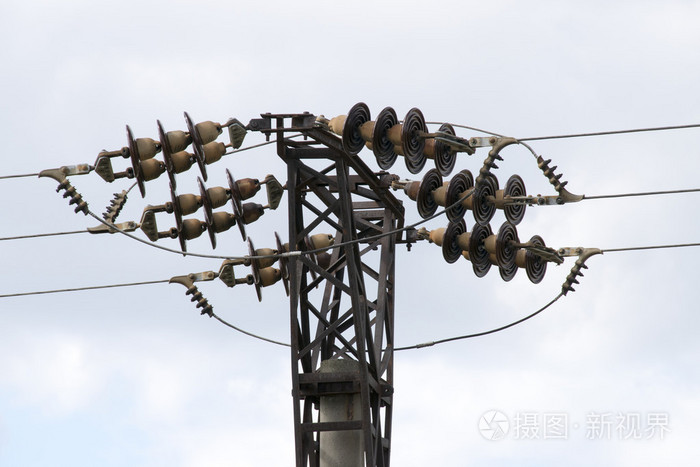insulator: (334, 100, 458, 173), (120, 112, 221, 191), (168, 169, 257, 252), (442, 220, 549, 287), (416, 169, 531, 223), (246, 230, 290, 306)
